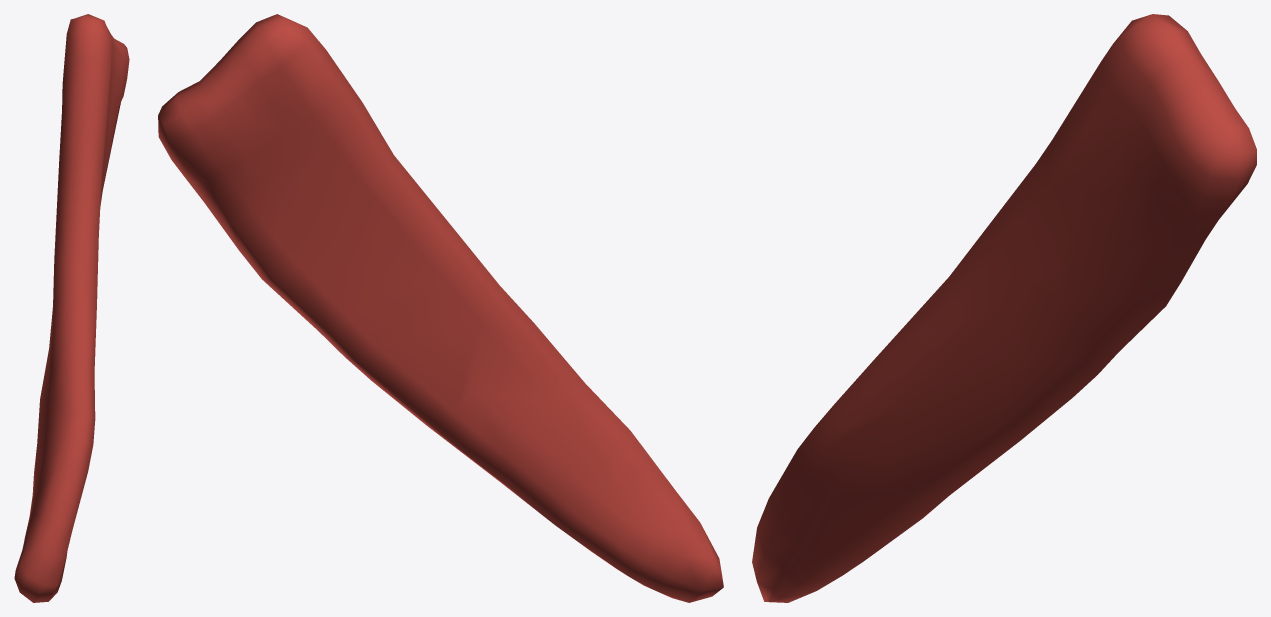
The model's file is musculos-tendon-sheath-abd-pollicis-longus-ext-pollicis-brevis-r.glb.
The picture shows the model from 3 angles, left to right: view 1: azimuth 30°, elevation 25°; view 2: azimuth 150°, elevation 25°; view 3: azimuth 270°, elevation 25°; orthographic projection. The views are drawn at different scales.
Parts seen in each view (by area): view 1: Tendon sheath - abd. pollicis longus - ext. pollicis brevis.; view 2: Tendon sheath - abd. pollicis longus - ext. pollicis brevis.; view 3: Tendon sheath - abd. pollicis longus - ext. pollicis brevis..
Boxes of the visible parts, box(x1,y1,x2,y2) form: Tendon sheath - abd. pollicis longus - ext. pollicis brevis.: box(14, 14, 129, 602); Tendon sheath - abd. pollicis longus - ext. pollicis brevis.: box(158, 14, 723, 602); Tendon sheath - abd. pollicis longus - ext. pollicis brevis.: box(752, 14, 1256, 602).
Size of the model in its own units: 0.0285 by 0.0492 by 0.0317.
